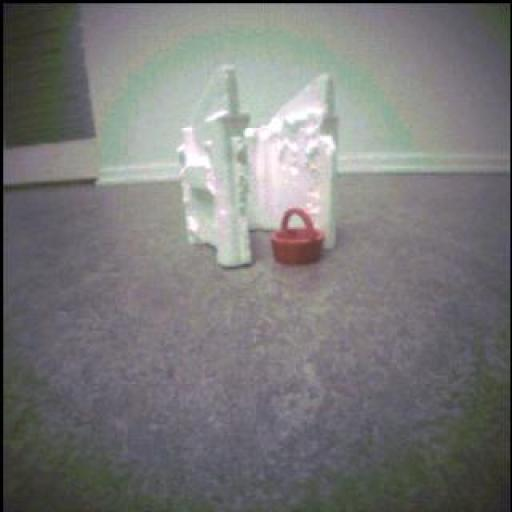Bucket: (273, 209, 326, 265)
